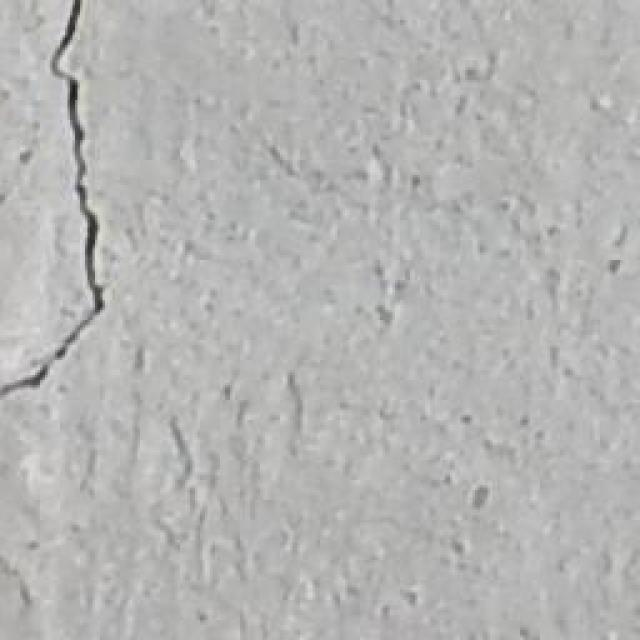concrete-crack: (0, 0, 109, 398)
